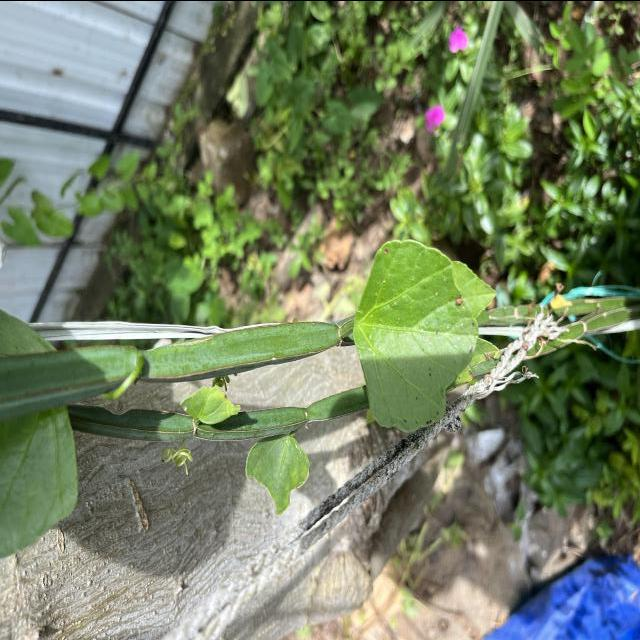Cissus quadrangularis: (352, 236, 480, 435)
